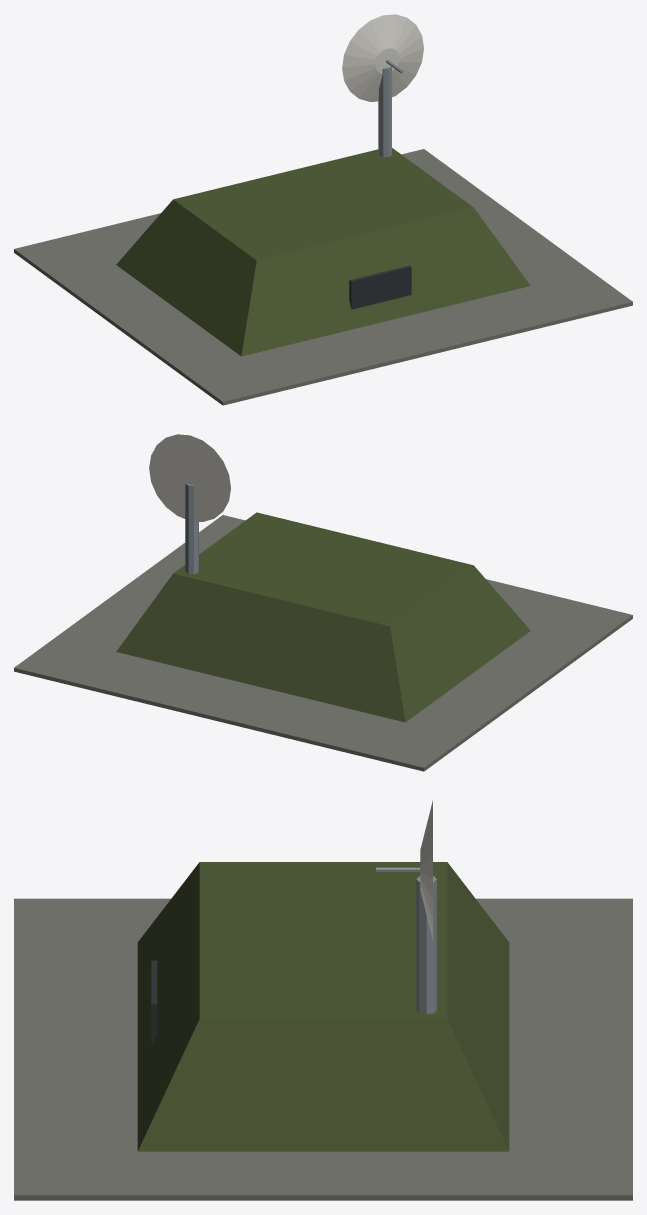
File: lab_mil.glb
The picture shows the model from 3 angles, top to bottom: view 1: azimuth 30°, elevation 25°; view 2: azimuth 150°, elevation 25°; view 3: azimuth 270°, elevation 25°; orthographic projection. The views are drawn at different scales.
Parts seen in each view (by area): view 1: lab_mil, Dish; view 2: lab_mil, Dish; view 3: lab_mil, Dish.
Part boxes in pixels (x1,y1,x2,y2): lab_mil: (14,66,632,405); Dish: (342,14,423,101); lab_mil: (14,483,632,771); Dish: (149,434,230,521); lab_mil: (14,862,632,1200); Dish: (376,800,432,938).
Size of the model in its own units: 34 by 16.9 by 30.
